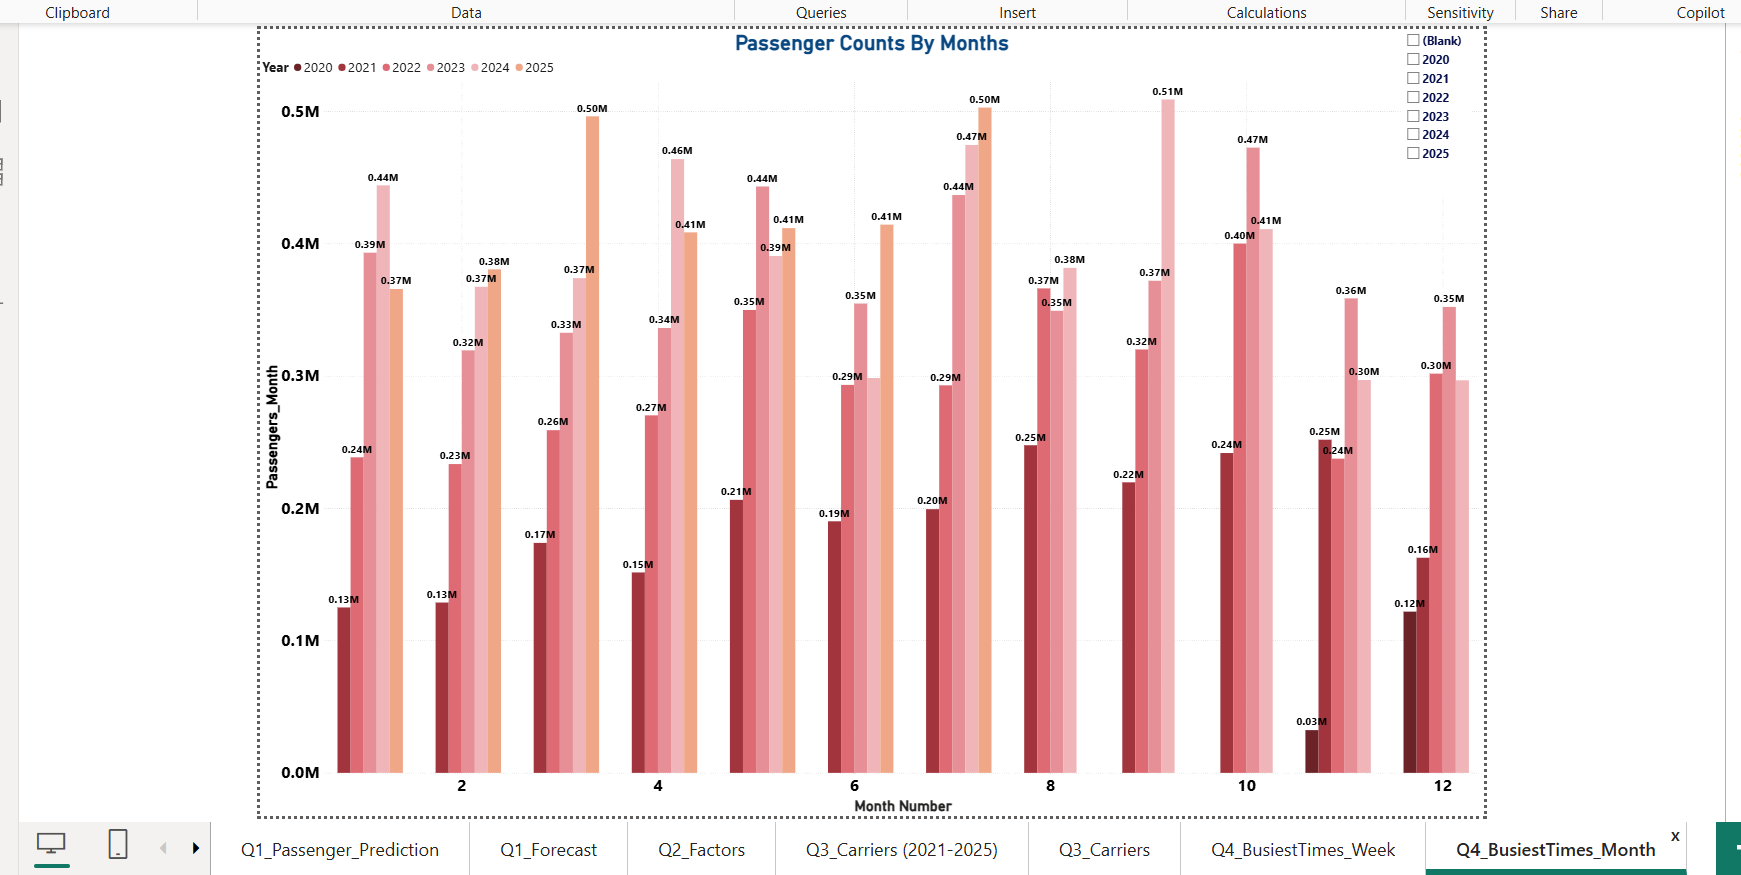

The page's visual inventory and layout, read from the dashboard file:
{"tool":"powerbi","page":{"name":"Q4_BusiestTimes_Month","canvas":[2800,1800],"ordinal":7},"visuals":[{"type":"clusteredColumnChart","title":"Passenger Counts By Months","fields":{"Y":["Fact_Carrier_Weekly.Passengers_Month"],"Series":["Date.Year"],"Category":["Date.MonthNumber"]},"box":[0,3.4,2799.6,1796.6],"z":0},{"type":"slicer","fields":{"Values":["Date.Year"]},"box":[2610.5,0,162.1,381.6],"z":1000}]}

Visuals, with their boxes on the page's 2800x1800 design canvas (x1, y1, x2, y2). These are canvas units, not pixel positions in the 1741x875 screenshot, which may show the page scaled, cropped or inside an application window:
"Passenger Counts By Months" clusteredColumnChart: BBox(0, 3, 2800, 1800)
slicer - Date.Year: BBox(2610, 0, 2773, 382)
